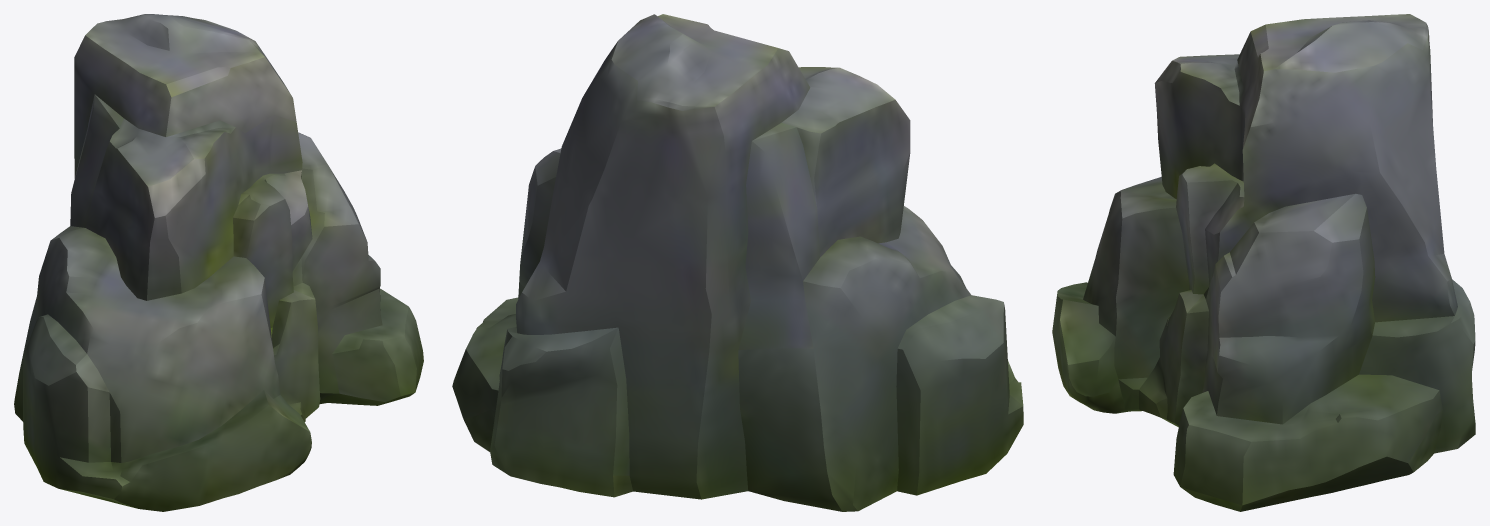
Rendered from rock_big_1.glb.
3 renders of one model, left to right at view 1: azimuth 30°, elevation 25°; view 2: azimuth 150°, elevation 25°; view 3: azimuth 270°, elevation 25°, orthographic. The views are drawn at different scales.
Parts seen in each view (by area): view 1: Rock_Big_1; view 2: Rock_Big_1; view 3: Rock_Big_1.
Boxes of the visible parts, x1,y1,x2,y2 form: Rock_Big_1: (14,14,423,511); Rock_Big_1: (452,14,1023,511); Rock_Big_1: (1052,14,1475,511).
Bounding box in the file's own units: 5.2 × 4.58 × 4.45.
1 material, 1 textured.
